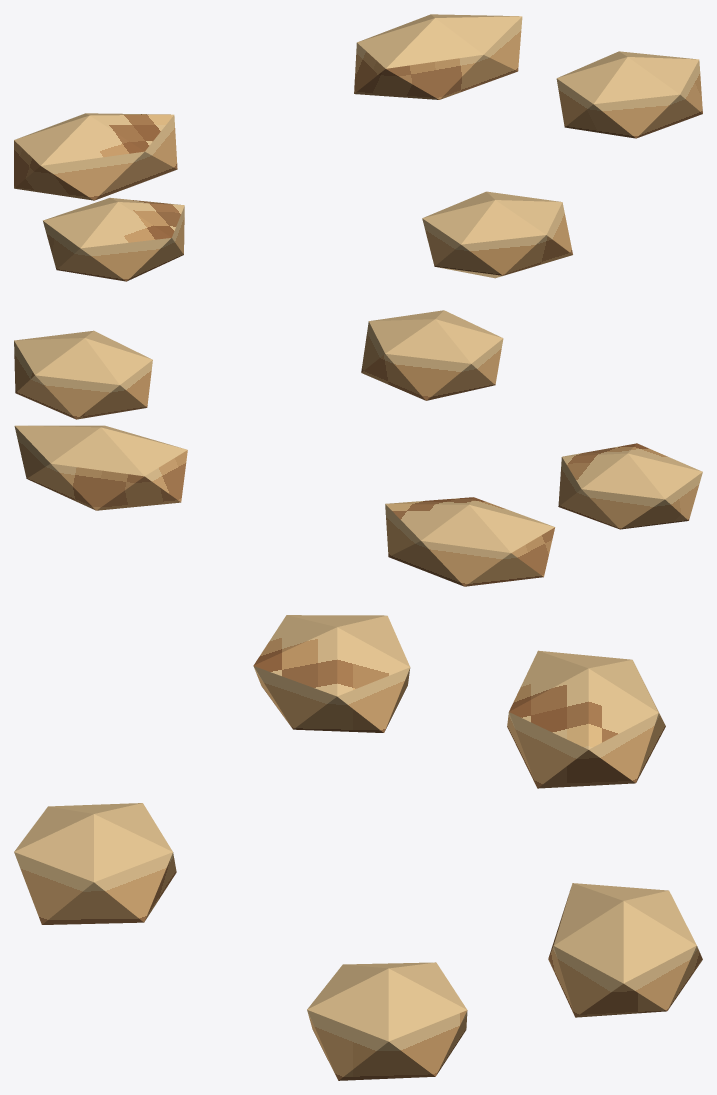
File: enfeite_seixos.fbx
The picture shows the model from 3 angles, top to bottom: view 1: azimuth 30°, elevation 25°; view 2: azimuth 150°, elevation 25°; view 3: azimuth 270°, elevation 25°; orthographic projection. The views are drawn at different scales.
Parts seen in each view (by area): view 1: deserto_enfeite_seixos; view 2: deserto_enfeite_seixos; view 3: deserto_enfeite_seixos.
Boxes of the visible parts, x1=… form: deserto_enfeite_seixos: x1=14, y1=14, x2=702, y2=281; deserto_enfeite_seixos: x1=14, y1=310, x2=702, y2=586; deserto_enfeite_seixos: x1=14, y1=615, x2=702, y2=1080.
Bounding box in the file's own units: 44.73 × 5.23 × 30.27.
Materials: 1 (1 with a texture image).
